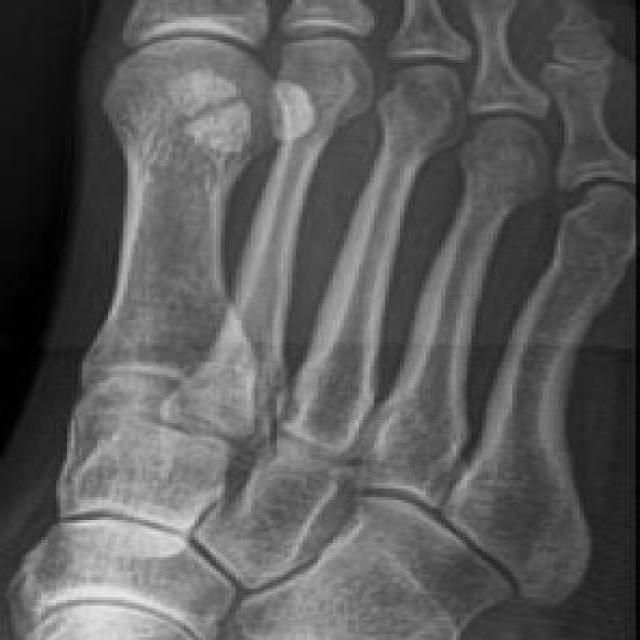Hairline: (521, 15, 631, 94)
